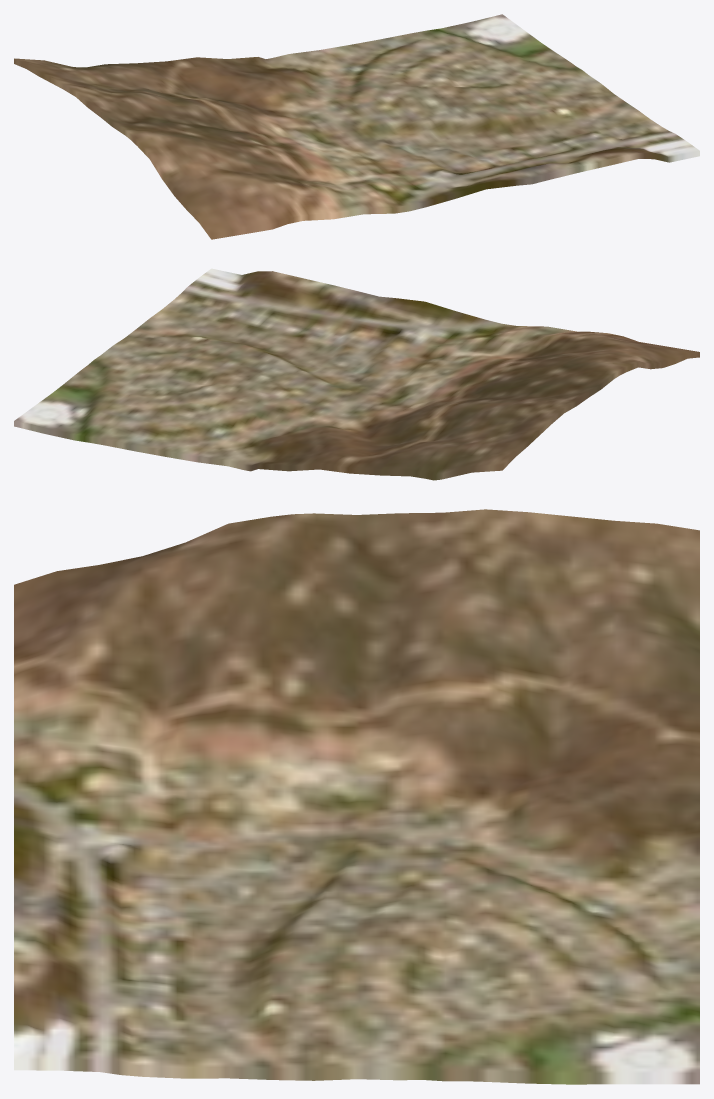
Rendered from terrain_r2_c6_lod2.glb.
The picture shows the model from 3 angles, top to bottom: view 1: azimuth 30°, elevation 25°; view 2: azimuth 150°, elevation 25°; view 3: azimuth 270°, elevation 25°; orthographic projection. The views are drawn at different scales.
Visible parts, largest first — view 1: terrain_r2_c6_lod2; view 2: terrain_r2_c6_lod2; view 3: terrain_r2_c6_lod2.
Part boxes in pixels (left/top/right/bottom): terrain_r2_c6_lod2: left=14, top=14, right=699, bottom=239; terrain_r2_c6_lod2: left=14, top=268, right=699, bottom=480; terrain_r2_c6_lod2: left=14, top=509, right=699, bottom=1084.
Bounding box in the file's own units: 1125 × 204 × 787.
Materials: 1 (1 with a texture image).
